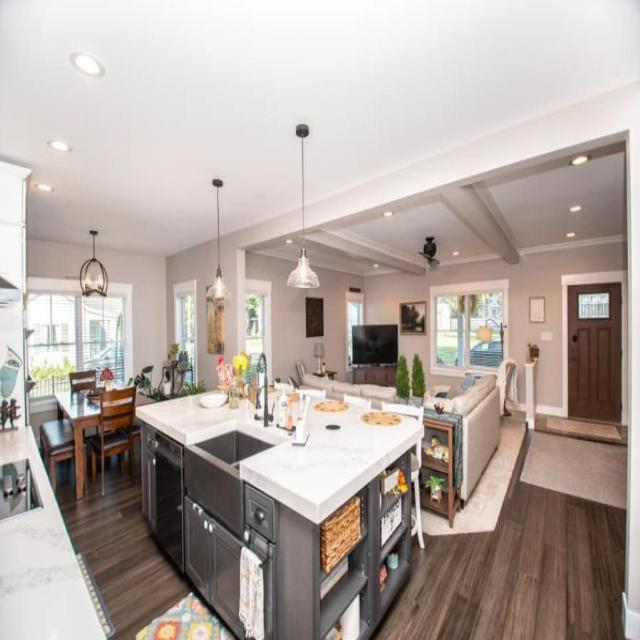dishwasher: (155, 430, 183, 574)
